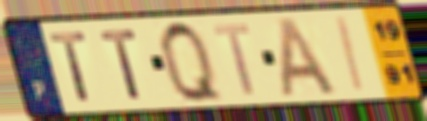A: (276, 15, 340, 100)
I: (335, 14, 369, 95)
Q: (156, 17, 228, 106)
T: (209, 21, 258, 98), (46, 29, 94, 105), (98, 27, 146, 102)
